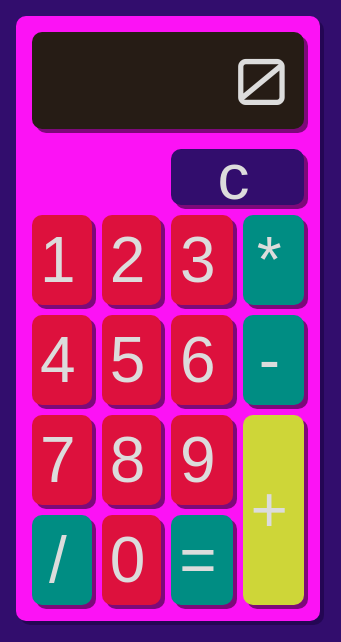
Test case: Calculator › Deve multiplicar corretamente
Click the button with test id "button-5" at (132, 360), box [102,315,162,405]
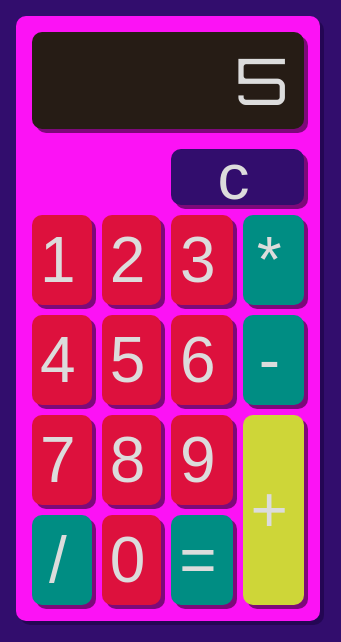
Click the button "*" at (274, 260), box [243,215,304,305]
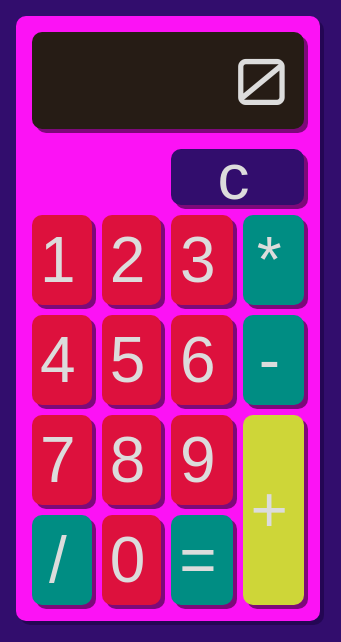
Click the button with test id "button-3" at (202, 260), box [171,215,232,305]
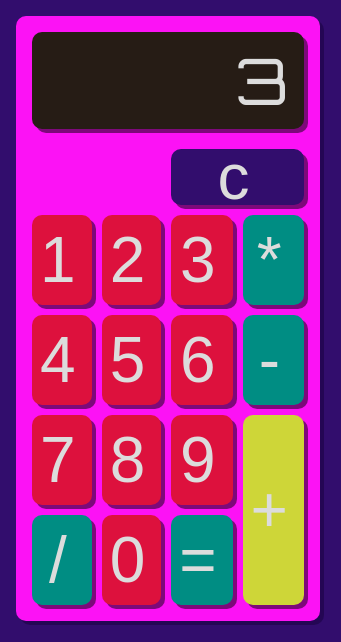
Click the button "=" at (202, 560), box [171,515,232,605]
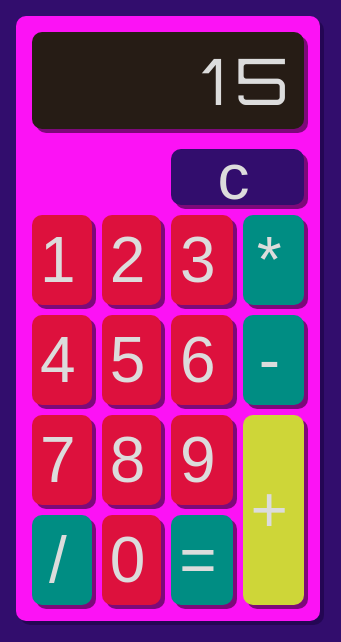
Now the text with test id "display" reads "15", box [32,32,304,129]
